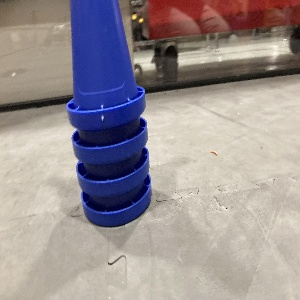Blue_4: (69, 29, 154, 230)
